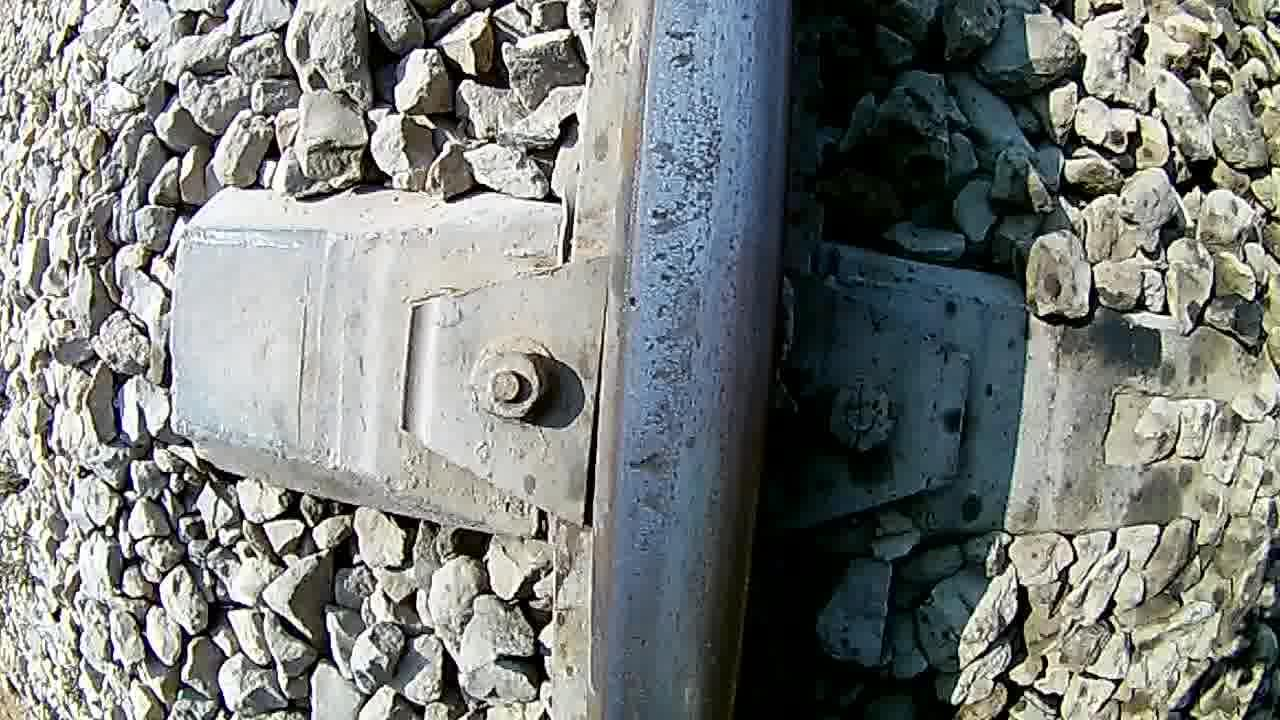crack: (606, 0, 786, 720)
